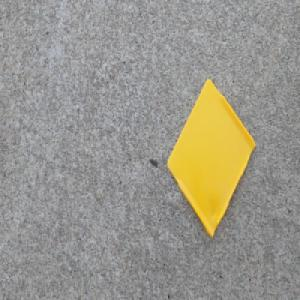PlasticPart: (164, 77, 255, 240)
